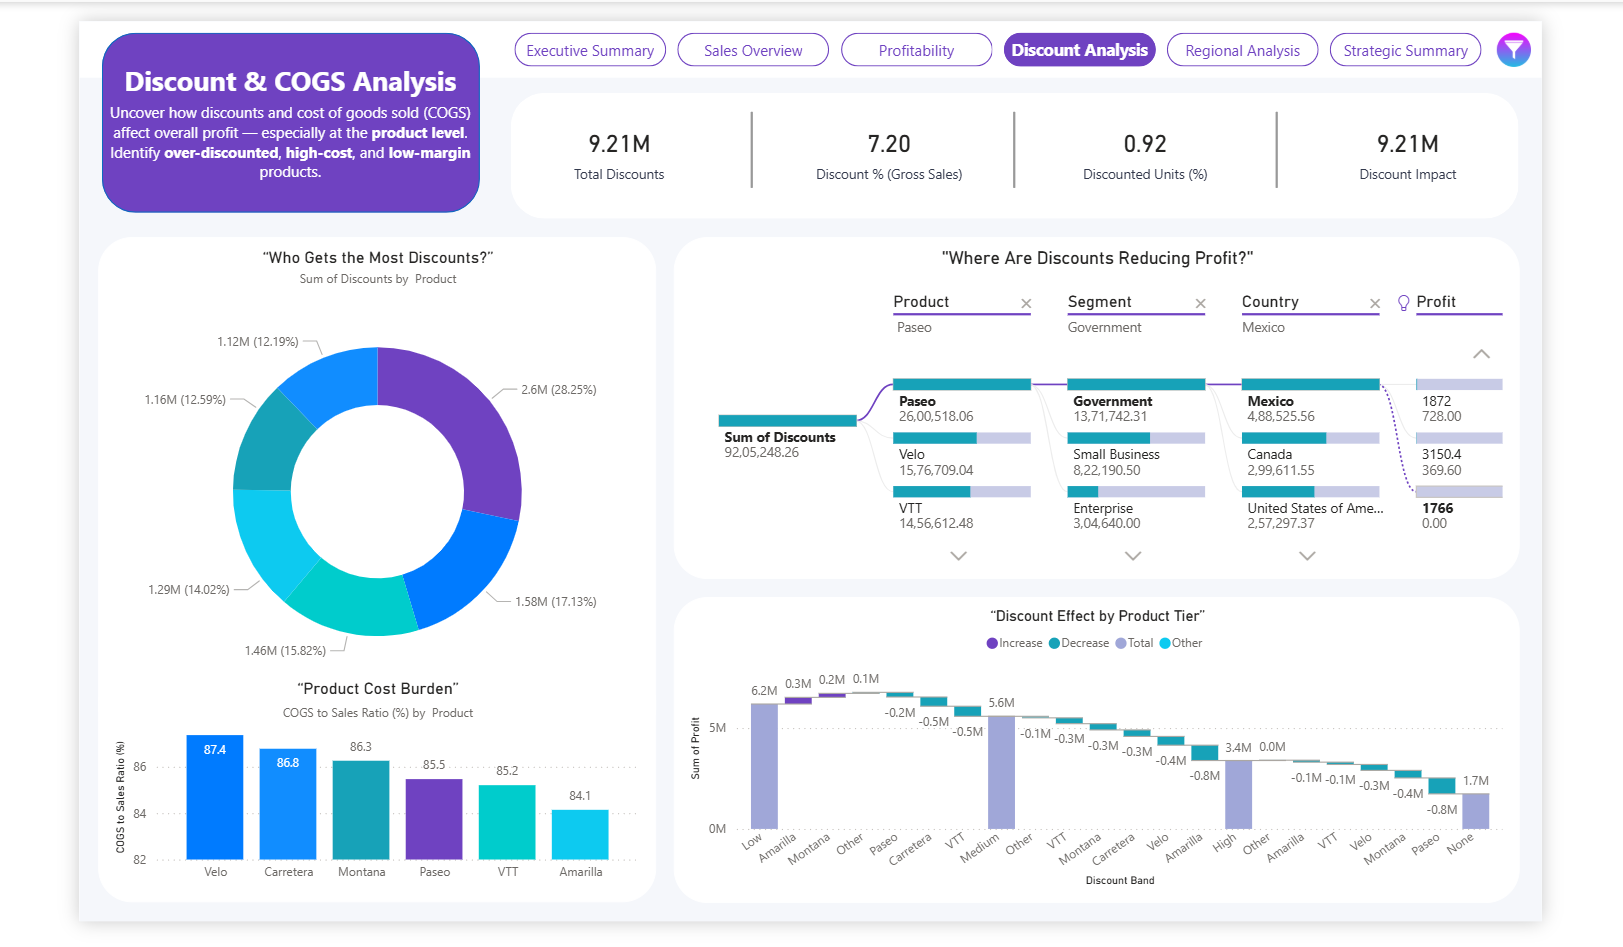

This screenshot's page, from the dashboard's own definition file:
{"tool":"powerbi","page":{"name":"Discount Analysis","canvas":[1300,800],"ordinal":3},"visuals":[{"type":"shape","box":[0,0,1300,50],"z":0},{"type":"shape","box":[384,64,896,112],"z":0,"group":"g2"},{"type":"card","fields":{"Values":["finance_data.Total Discounts"]},"box":[400,74.7,160,85.3],"z":0,"group":"g1"},{"type":"donutChart","title":"“Who Gets the Most Discounts?”","fields":{"Category":["finance_data. Product "],"Y":["Sum(finance_data.Discounts)"]},"box":[16,192,496,448],"z":0,"group":"g3"},{"type":"image","box":[1260,10,30,30],"z":1000},{"type":"group","id":"g1","title":"Group 1","box":[400,74.7,864,85.3],"z":1000,"group":"g2"},{"type":"card","fields":{"Values":["finance_data.Discount % (Gross)"]},"box":[640,74.7,160,85.3],"z":1000,"group":"g1"},{"type":"columnChart","title":"“Product Cost Burden”","fields":{"Category":["finance_data. Product "],"Y":["finance_data.COGS to Sales Ratio (%)"]},"box":[16,576,496,208],"z":1000,"group":"g3"},{"type":"pageNavigator","box":[387,10,864,30],"z":2000},{"type":"card","fields":{"Values":["finance_data.Discounted Units (%)"]},"box":[865.8,74.7,165.3,85.3],"z":2000,"group":"g1"},{"type":"shape","box":[583.1,81.1,32,68.3],"z":2000,"group":"g2"},{"type":"shape","box":[20,10,336,160],"z":3000},{"type":"card","fields":{"Values":["finance_data.Discount Impact"]},"box":[1098.7,74.7,165.3,85.3],"z":3000,"group":"g1"},{"type":"shape","box":[816,81.1,32,68.3],"z":3000,"group":"g2"},{"type":"group","id":"g2","title":"Group 2","box":[384,64,896,112],"z":4000},{"type":"shape","box":[1048.9,81.1,32,68.3],"z":4000,"group":"g2"},{"type":"textbox","box":[20,32,335,48],"z":5000},{"type":"textbox","box":[20,66,335,80],"z":6000},{"type":"decompositionTreeVisual","title":"\"Where Are Discounts Reducing Profit?\"","fields":{"Analyze":["Sum(finance_data.Discounts)"],"ExplainBy":["finance_data. Product ","finance_data.Segment","finance_data.Country","finance_data.Profit"]},"box":[528,192,752,304],"z":7000},{"type":"waterfallChart","title":"“Discount Effect by Product Tier”","fields":{"Category":["finance_data. Discount Band "],"Y":["Sum(finance_data.Profit)"],"Breakdown":["finance_data. Product "]},"box":[528,512,752,272],"z":8000},{"type":"group","id":"g3","title":"Group 3","box":[16,192,496,592],"z":9000}]}

Visuals, with their boxes on the page's 1300x800 design canvas (x1, y1, x2, y2). These are canvas units, not pixel positions in the 1623x947 screenshot, which may show the page scaled, cropped or inside an application window:
shape: pyautogui.locateOnScreen(0, 0, 1300, 50)
shape: pyautogui.locateOnScreen(384, 64, 1280, 176)
card - finance_data.Total Discounts: pyautogui.locateOnScreen(400, 75, 560, 160)
"“Who Gets the Most Discounts?”" donutChart: pyautogui.locateOnScreen(16, 192, 512, 640)
image: pyautogui.locateOnScreen(1260, 10, 1290, 40)
"Group 1" group: pyautogui.locateOnScreen(400, 75, 1264, 160)
card - finance_data.Discount % (Gross): pyautogui.locateOnScreen(640, 75, 800, 160)
"“Product Cost Burden”" columnChart: pyautogui.locateOnScreen(16, 576, 512, 784)
pageNavigator: pyautogui.locateOnScreen(387, 10, 1251, 40)
card - finance_data.Discounted Units (%): pyautogui.locateOnScreen(866, 75, 1031, 160)
shape: pyautogui.locateOnScreen(583, 81, 615, 149)
shape: pyautogui.locateOnScreen(20, 10, 356, 170)
card - finance_data.Discount Impact: pyautogui.locateOnScreen(1099, 75, 1264, 160)
shape: pyautogui.locateOnScreen(816, 81, 848, 149)
"Group 2" group: pyautogui.locateOnScreen(384, 64, 1280, 176)
shape: pyautogui.locateOnScreen(1049, 81, 1081, 149)
textbox: pyautogui.locateOnScreen(20, 32, 355, 80)
textbox: pyautogui.locateOnScreen(20, 66, 355, 146)
""Where Are Discounts Reducing Profit?"" decompositionTreeVisual: pyautogui.locateOnScreen(528, 192, 1280, 496)
"“Discount Effect by Product Tier”" waterfallChart: pyautogui.locateOnScreen(528, 512, 1280, 784)
"Group 3" group: pyautogui.locateOnScreen(16, 192, 512, 784)
